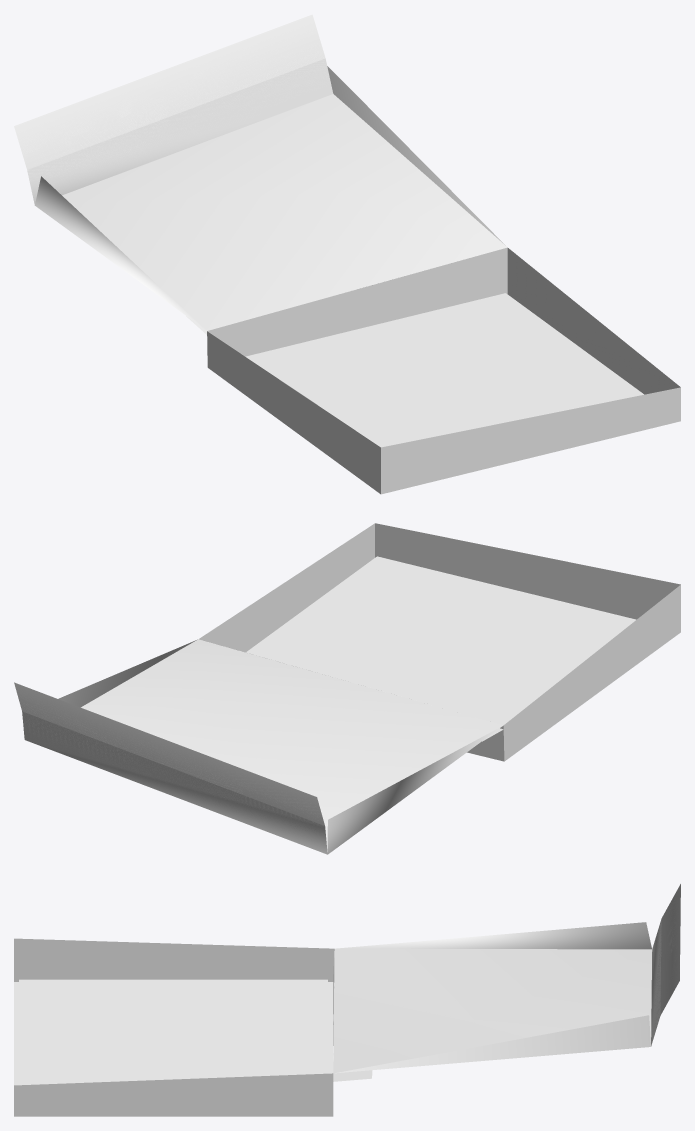
The model's file is pizzaBoxopen.glb.
3 renders of one model, top to bottom at view 1: azimuth 30°, elevation 25°; view 2: azimuth 150°, elevation 25°; view 3: azimuth 270°, elevation 25°, orthographic. The views are drawn at different scales.
Visible parts, largest first — view 1: pizza_Box_open; view 2: pizza_Box_open; view 3: pizza_Box_open.
Boxes of the visible parts, x1,y1,x2,y2 form: pizza_Box_open: (14, 14, 680, 494); pizza_Box_open: (14, 523, 680, 854); pizza_Box_open: (14, 884, 680, 1116).
Bounding box in the file's own units: 0.8132 × 0.3669 × 1.67.
Materials: 1 (1 with a texture image).
